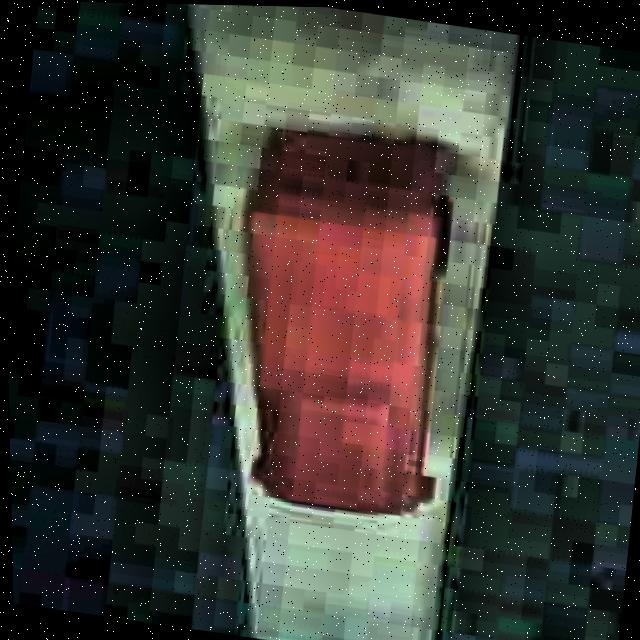bus: (208, 117, 478, 527)
